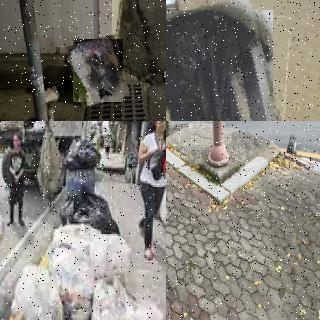Garbage: (166, 2, 282, 121), (47, 223, 132, 320), (69, 37, 127, 105), (90, 274, 166, 320), (8, 260, 66, 320), (62, 191, 119, 240), (65, 135, 100, 170)
